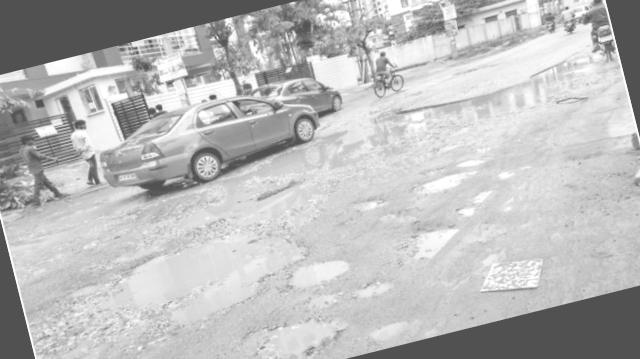Pothole: (178, 46, 636, 238), (88, 218, 312, 350), (352, 168, 467, 280), (258, 215, 366, 310), (241, 293, 362, 359)
